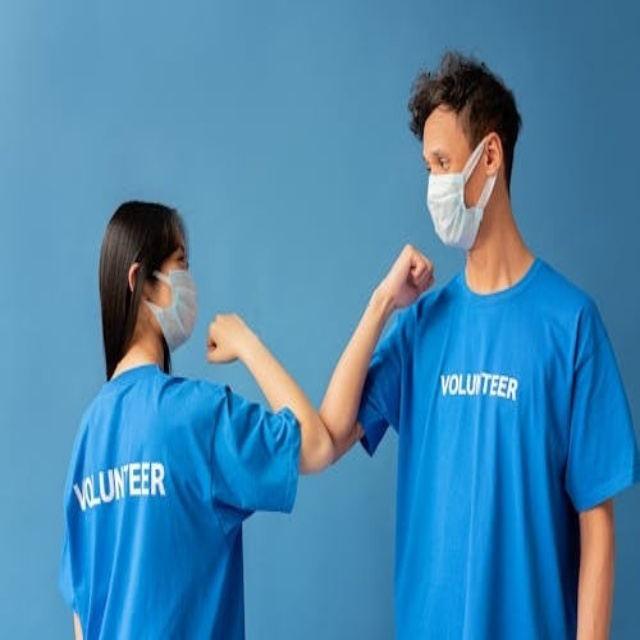Mascara: (425, 136, 497, 250), (141, 267, 197, 353)
Sin_gafas: (420, 142, 456, 174), (166, 241, 195, 268)
Sin_guantes: (376, 238, 438, 310), (204, 305, 257, 370)
